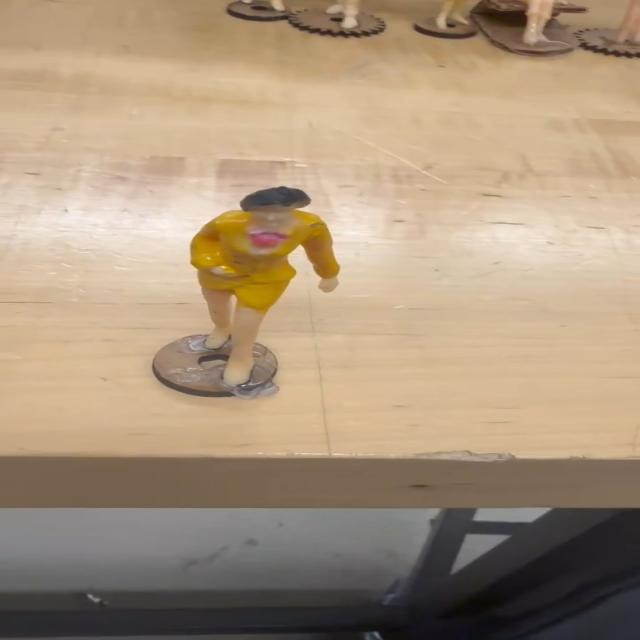Authorized: (167, 178, 346, 404)
